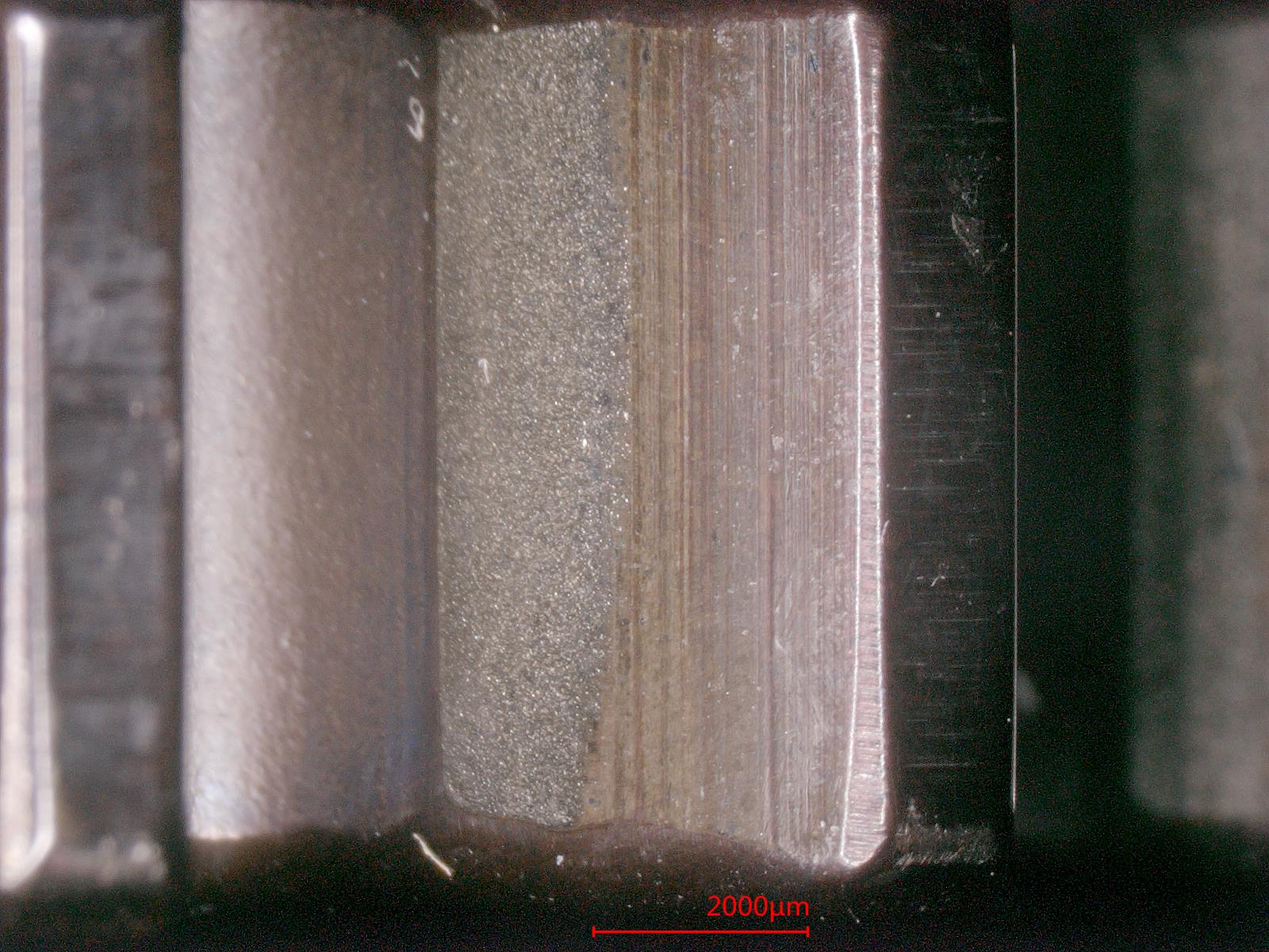Abrasion: (424, 38, 883, 852)
